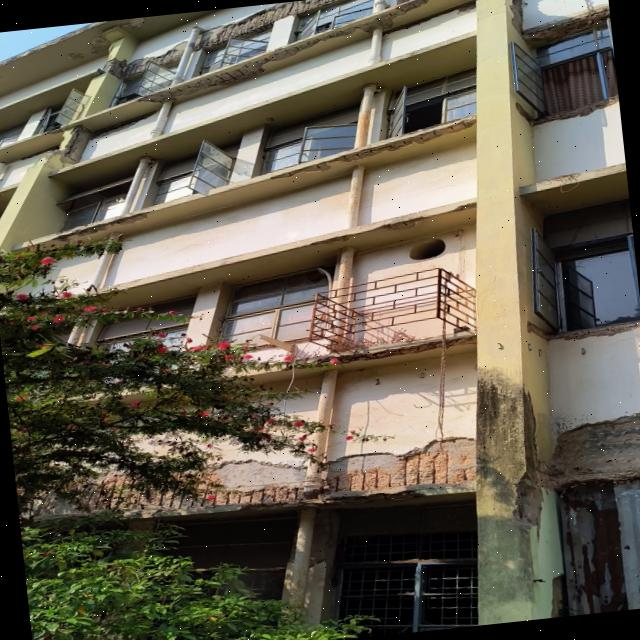crack: (165, 268, 196, 277)
peeling: (540, 412, 640, 490), (66, 17, 143, 63)
spalling: (68, 437, 475, 516), (135, 0, 429, 103), (266, 114, 475, 180), (307, 201, 475, 245), (202, 0, 342, 49), (60, 115, 150, 164), (27, 210, 149, 245), (293, 0, 393, 40), (522, 4, 609, 47), (324, 337, 441, 365), (383, 0, 476, 34), (536, 96, 618, 124), (528, 320, 640, 340), (145, 45, 180, 65), (18, 143, 60, 159), (509, 0, 523, 32), (447, 333, 476, 346), (43, 125, 73, 134)
stain_mould: (0, 21, 107, 66)
